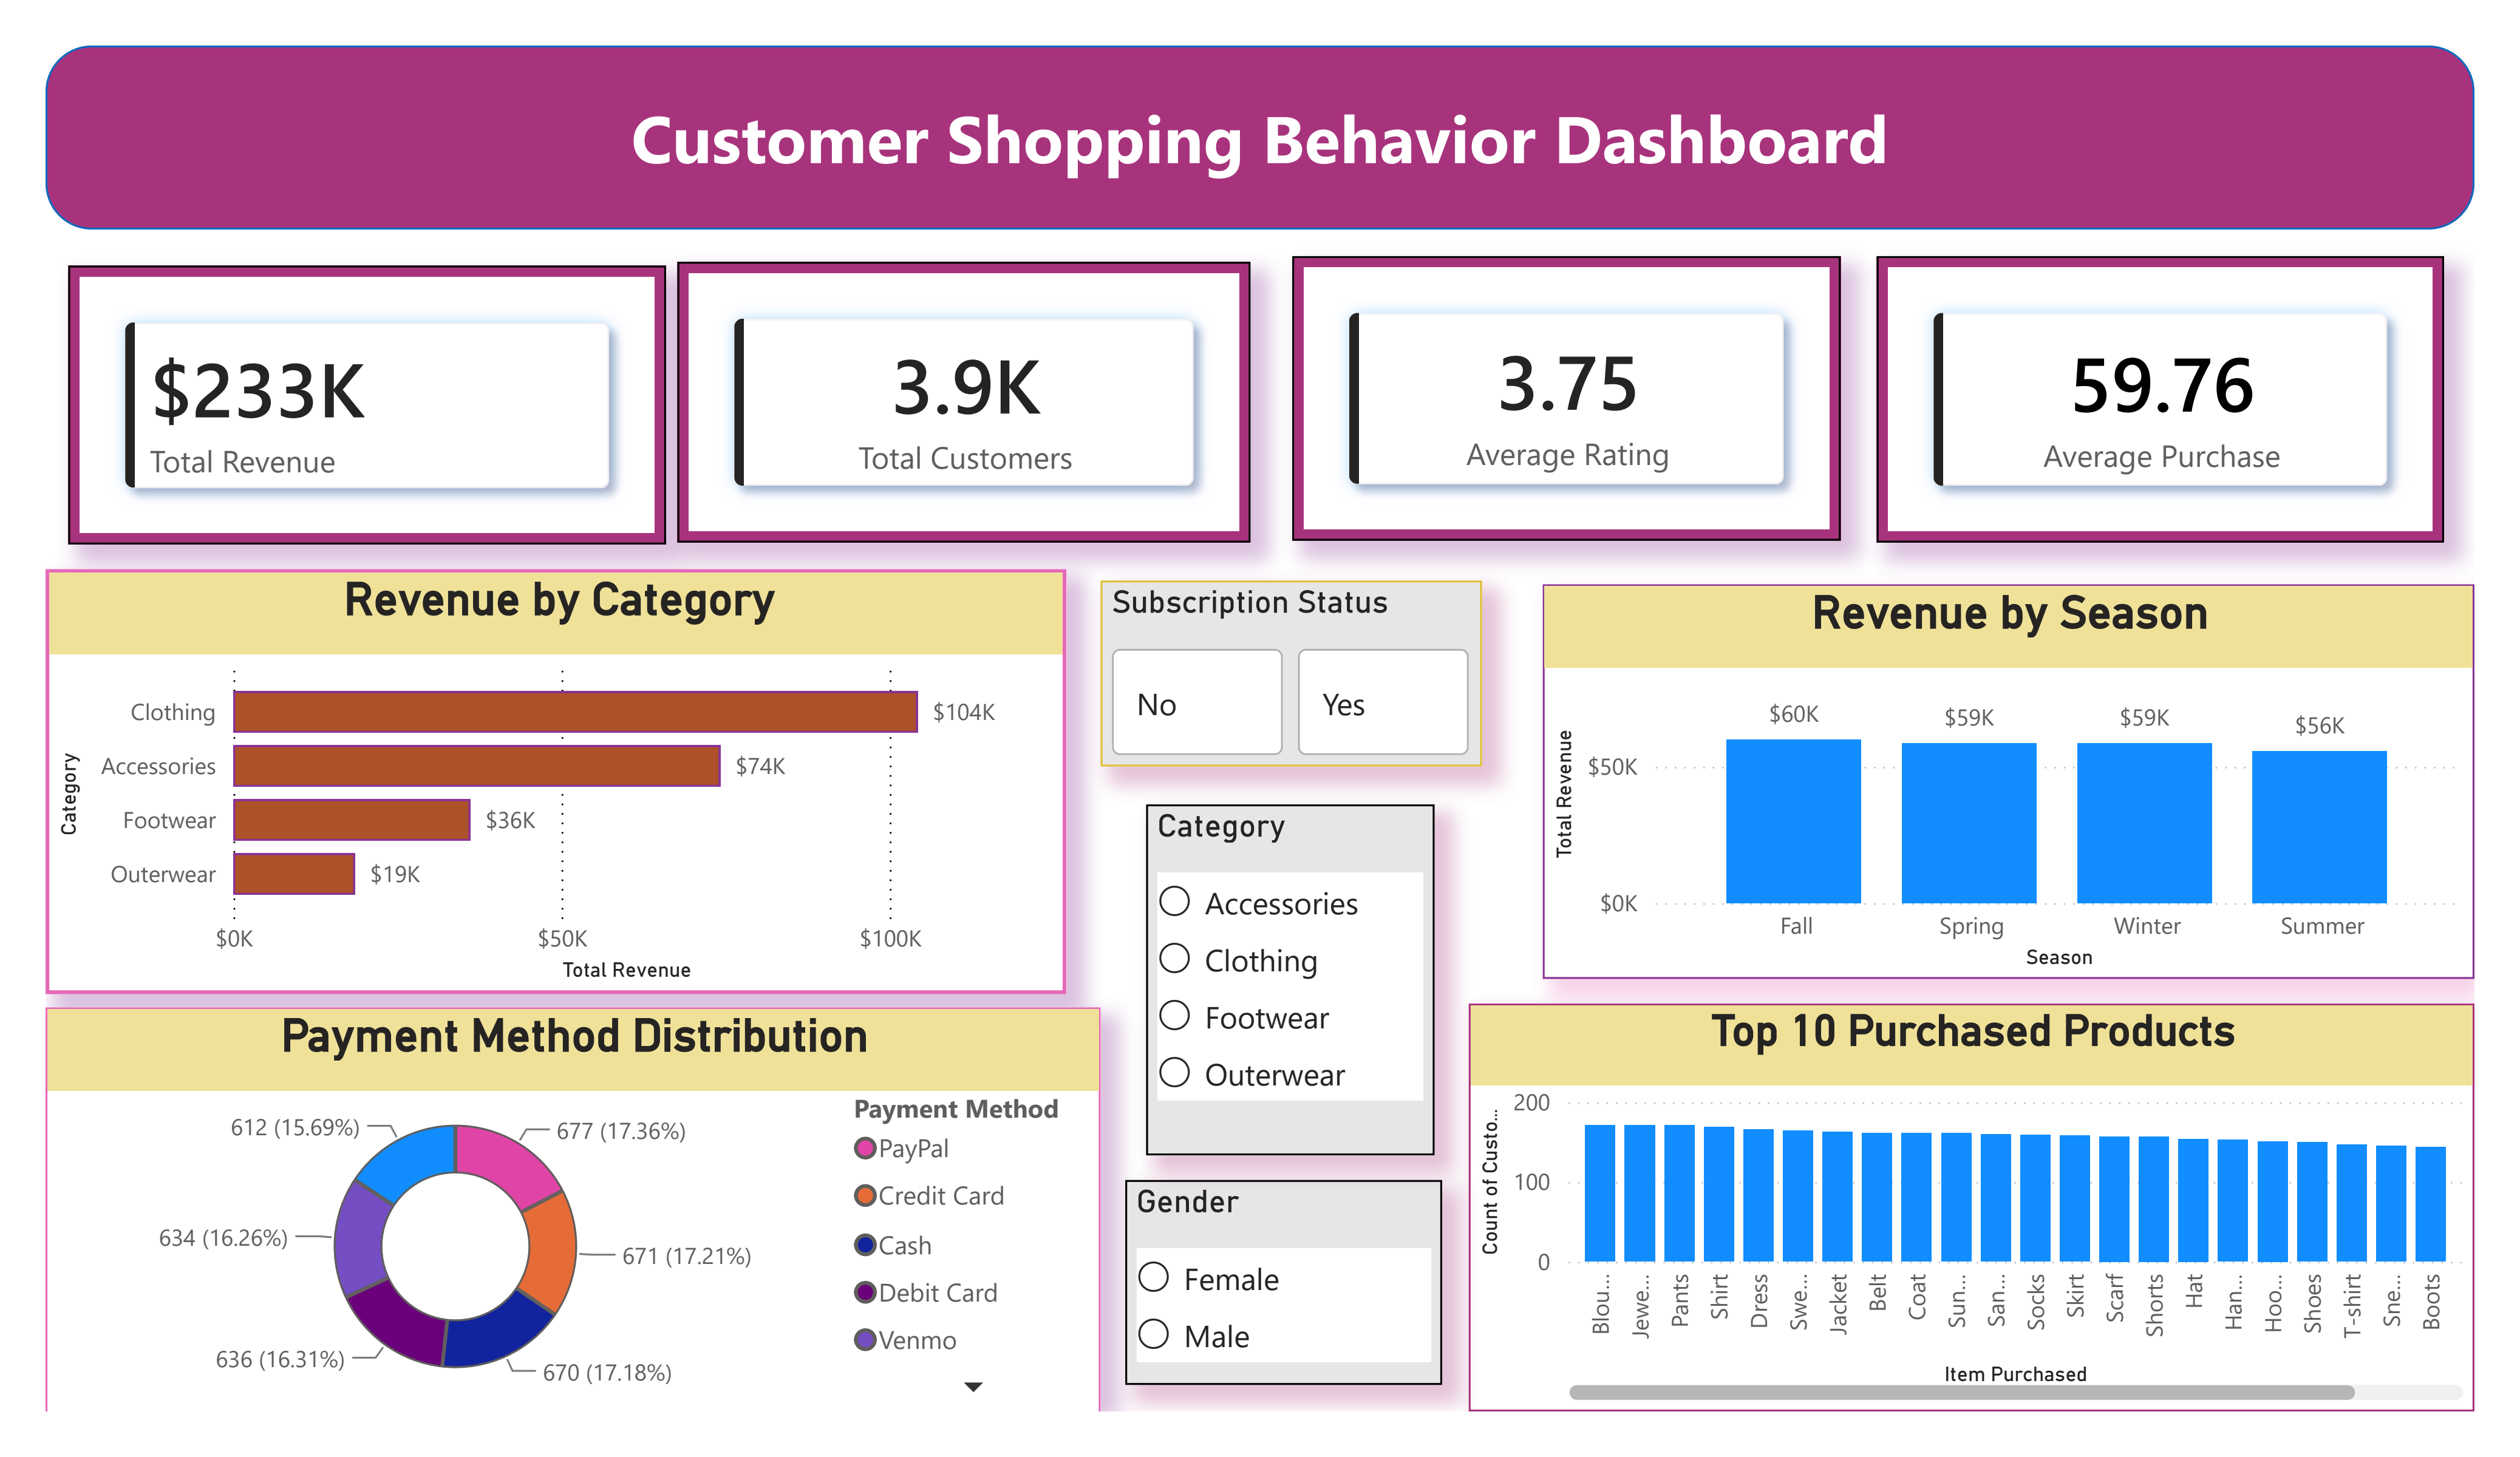

The dashboard page shown, as its layout file describes it:
{"tool":"powerbi","page":{"name":"Page 1","canvas":[1280,720],"ordinal":0},"visuals":[{"type":"cardVisual","fields":{"Data":["customer_shopping_behavior_cleaned.Total Revenue"]},"box":[11.8,115.9,315.4,146.9],"z":0},{"type":"cardVisual","fields":{"Data":["customer_shopping_behavior_cleaned.Total Customers"]},"box":[332.6,113.8,302.4,148.3],"z":1000},{"type":"cardVisual","fields":{"Data":["customer_shopping_behavior_cleaned.Average Rating"]},"box":[656.6,110.9,289.4,149.8],"z":2000},{"type":"cardVisual","fields":{"Data":["customer_shopping_behavior_cleaned.Average Purchase"]},"box":[964.8,110.9,299.5,151.2],"z":3000},{"type":"clusteredBarChart","title":"Revenue by Category","fields":{"Category":["customer_shopping_behavior_cleaned.Category"],"Y":["customer_shopping_behavior_cleaned.Total Revenue"]},"box":[0,276.5,537.5,223.4],"z":4000},{"type":"shape","title":"Customer Shopping Behavior Dashboard","box":[0,0,1280.2,97],"z":5000},{"type":"textbox","box":[750,465,289,150],"z":6000},{"type":"textbox","box":[1039,465,241,150],"z":7000},{"type":"clusteredColumnChart","title":"Revenue by Season","fields":{"Category":["customer_shopping_behavior_cleaned.Season"],"Y":["customer_shopping_behavior_cleaned.Total Revenue"]},"box":[789.1,283.7,491,208.8],"z":8000},{"type":"donutChart","title":"Payment Method Distribution","fields":{"Category":["customer_shopping_behavior_cleaned.Payment Method"],"Y":["CountNonNull(customer_shopping_behavior_cleaned.Customer ID)"]},"box":[0,507.3,556,213.3],"z":9000},{"type":"clusteredColumnChart","title":"Top 10 Purchased Products","fields":{"Category":["customer_shopping_behavior_cleaned.Item Purchased"],"Y":["CountNonNull(customer_shopping_behavior_cleaned.Customer ID)"]},"box":[750.2,505.4,529.9,214.6],"z":10000},{"type":"advancedSlicerVisual","fields":{"Values":["customer_shopping_behavior_cleaned.Subscription Status"]},"box":[555.8,282.2,201.6,97.4],"z":11000},{"type":"listSlicer","fields":{"Values":["customer_shopping_behavior_cleaned.Gender"]},"box":[568.8,597.6,167,108],"z":12000},{"type":"listSlicer","fields":{"Values":["customer_shopping_behavior_cleaned.Category"]},"box":[580.3,400.3,151.2,184.8],"z":13000}]}

Visuals, with their boxes in screenshot pixels (x1, y1, x2, y2):
cardVisual - customer_shopping_behavior_cleaned.Total Revenue: x1=81, y1=256, x2=672, y2=531
cardVisual - customer_shopping_behavior_cleaned.Total Customers: x1=682, y1=253, x2=1248, y2=530
cardVisual - customer_shopping_behavior_cleaned.Average Rating: x1=1289, y1=247, x2=1831, y2=528
cardVisual - customer_shopping_behavior_cleaned.Average Purchase: x1=1866, y1=247, x2=2426, y2=530
"Revenue by Category" clusteredBarChart: x1=59, y1=557, x2=1066, y2=976
"Customer Shopping Behavior Dashboard" shape: x1=59, y1=39, x2=2456, y2=221
textbox: x1=1463, y1=910, x2=2005, y2=1191
textbox: x1=2005, y1=910, x2=2456, y2=1191
"Revenue by Season" clusteredColumnChart: x1=1537, y1=571, x2=2456, y2=962
"Payment Method Distribution" donutChart: x1=59, y1=989, x2=1100, y2=1388
"Top 10 Purchased Products" clusteredColumnChart: x1=1464, y1=986, x2=2456, y2=1387
advancedSlicerVisual - customer_shopping_behavior_cleaned.Subscription Status: x1=1100, y1=568, x2=1477, y2=750
listSlicer - customer_shopping_behavior_cleaned.Gender: x1=1124, y1=1158, x2=1437, y2=1360
listSlicer - customer_shopping_behavior_cleaned.Category: x1=1146, y1=789, x2=1429, y2=1135
